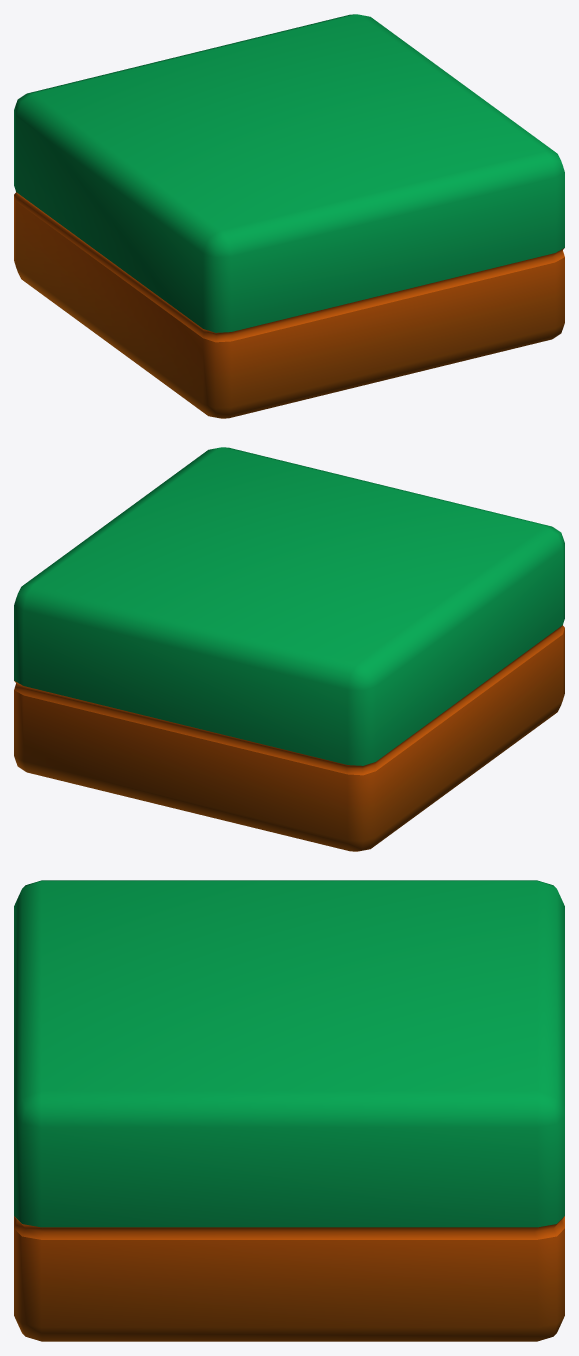
The model's file is 3D_Tile_Ground_01Av03.fbx.
3 views of the same model, one above another, from view 1: azimuth 30°, elevation 25°; view 2: azimuth 150°, elevation 25°; view 3: azimuth 270°, elevation 25° (orthographic). The views are drawn at different scales.
Visible parts, largest first — view 1: 3D_Tile_Ground_01Av03; view 2: 3D_Tile_Ground_01Av03; view 3: 3D_Tile_Ground_01Av03.
Boxes of the visible parts, x1=… form: 3D_Tile_Ground_01Av03: x1=14, y1=14, x2=564, y2=418; 3D_Tile_Ground_01Av03: x1=14, y1=447, x2=564, y2=851; 3D_Tile_Ground_01Av03: x1=14, y1=880, x2=564, y2=1341.
Size of the model in its own units: 200 by 100 by 200.
